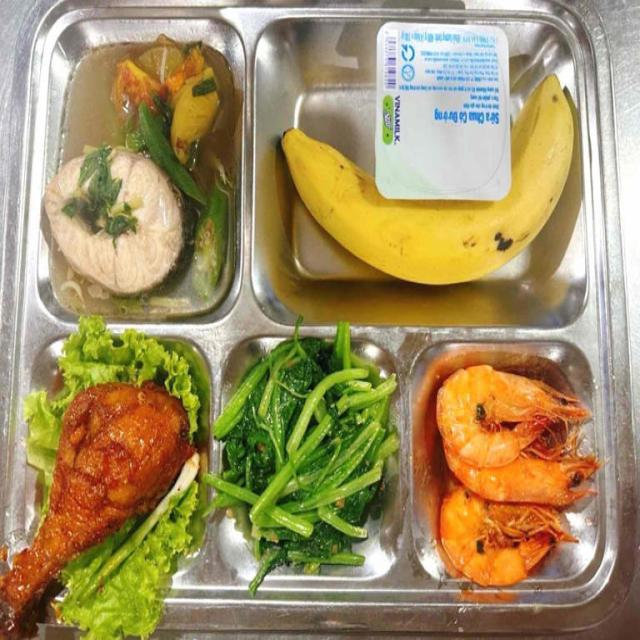canh chua: (41, 35, 236, 317)
chuoi: (282, 75, 576, 284)
ga chien: (0, 381, 195, 632)
rau muong: (203, 323, 398, 592)
tom: (436, 365, 600, 585)
